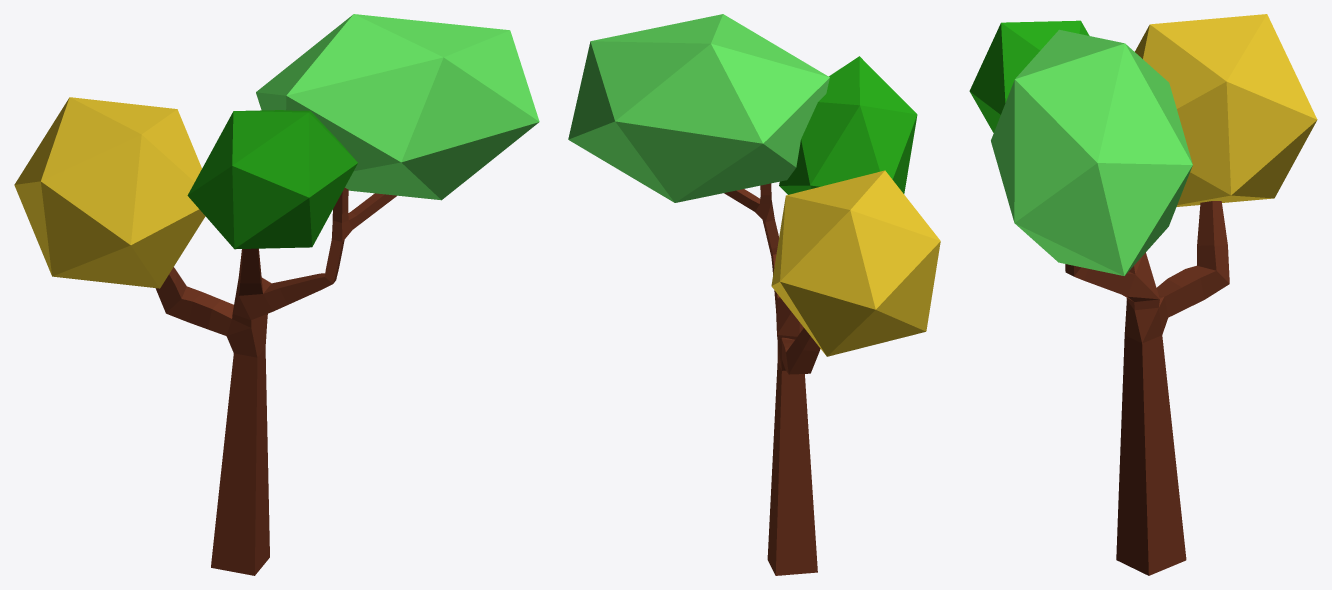
The model's file is Arbol_3.fbx.
3 renders of one model, left to right at view 1: azimuth 30°, elevation 25°; view 2: azimuth 150°, elevation 25°; view 3: azimuth 270°, elevation 25°, orthographic. The views are drawn at different scales.
Visible parts, largest first — view 1: Arbol_P.001; view 2: Arbol_P.001; view 3: Arbol_P.001.
Part boxes in pixels (x1,y1,x2,y2): Arbol_P.001: (14, 14, 539, 575); Arbol_P.001: (568, 14, 940, 575); Arbol_P.001: (969, 14, 1317, 575).
Size of the model in its own units: 1105 by 1292 by 715.
